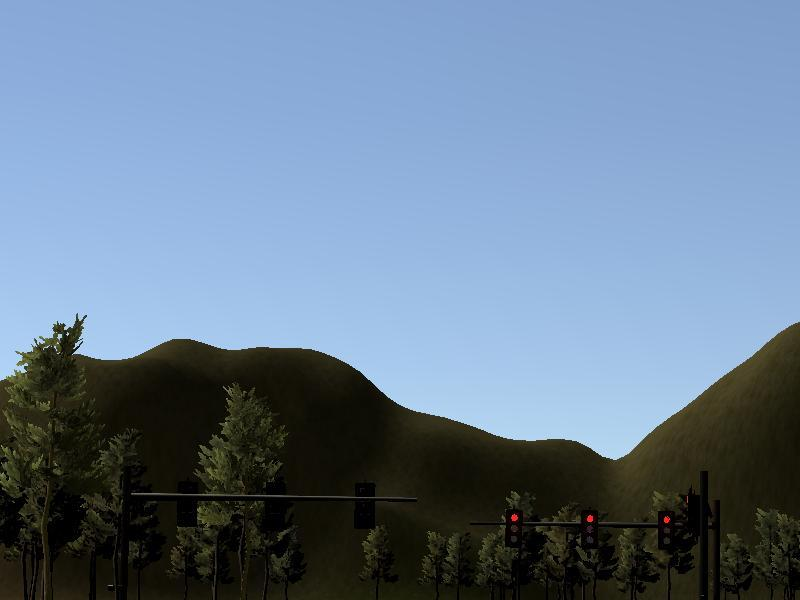Red: (505, 510, 521, 547), (582, 510, 598, 547), (658, 512, 674, 547)
